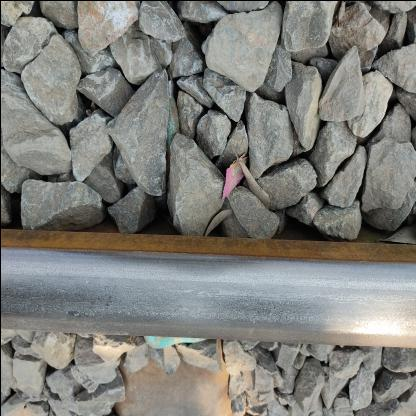Non Defective 2: (1, 173, 415, 392)
